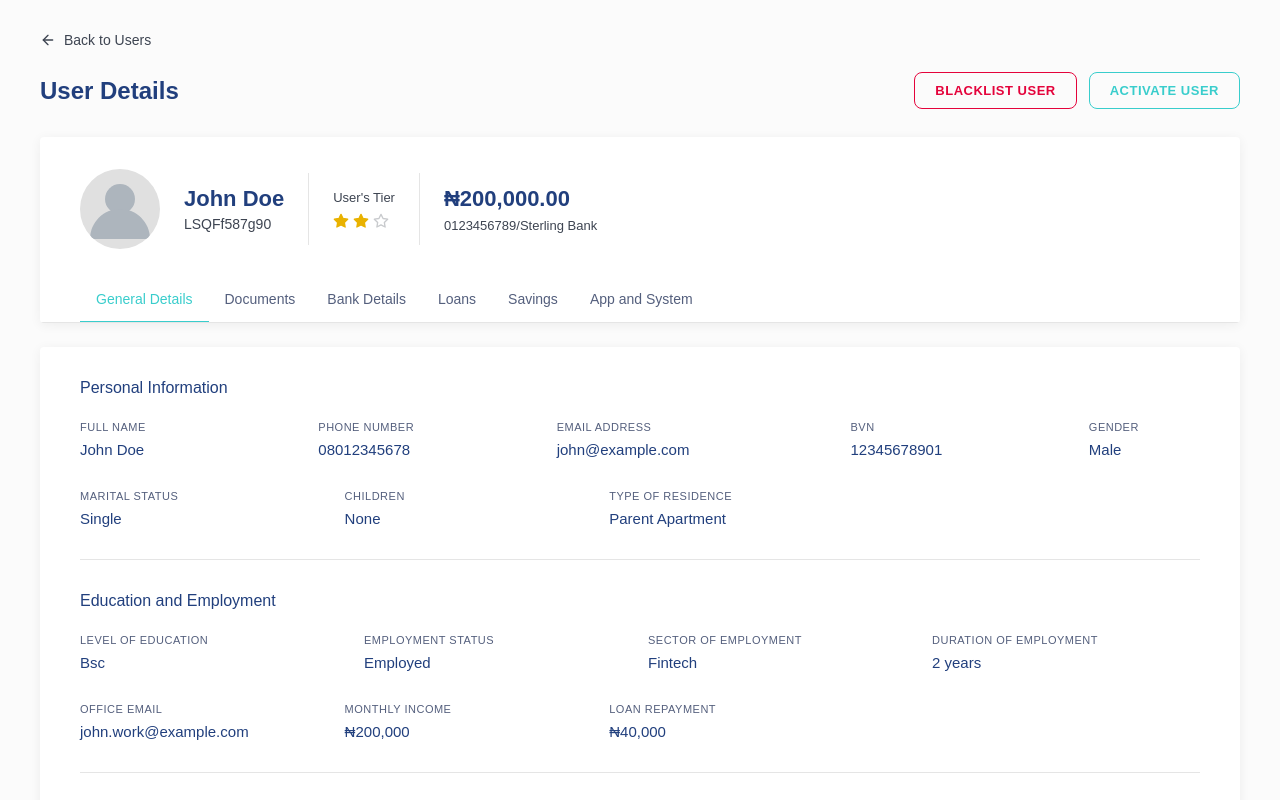
Test: UserDetails Component › Tab Switching › does NOT show Personal Information section after switching tabs
Click the button "Loans" at {"x": 457, "y": 300}, box [422,277,492,323]
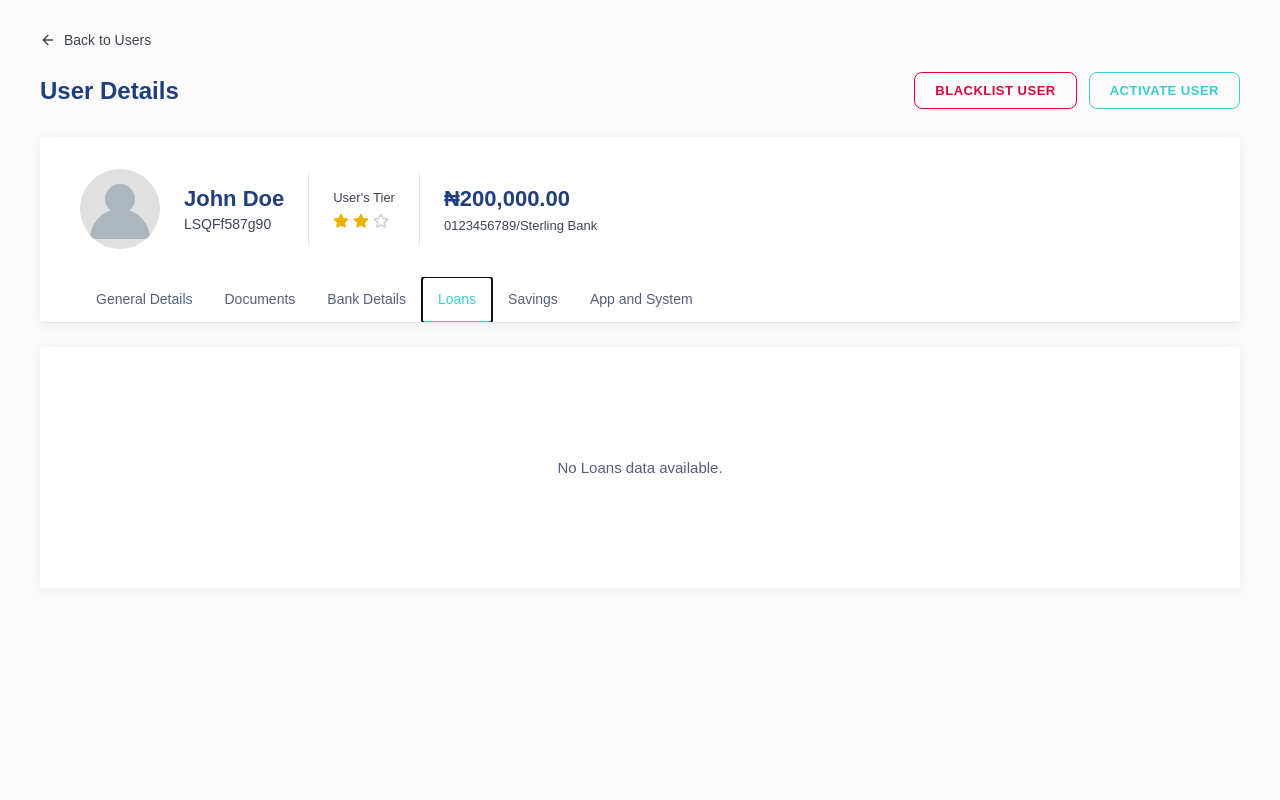
Expected: the heading "Personal Information" is gone
